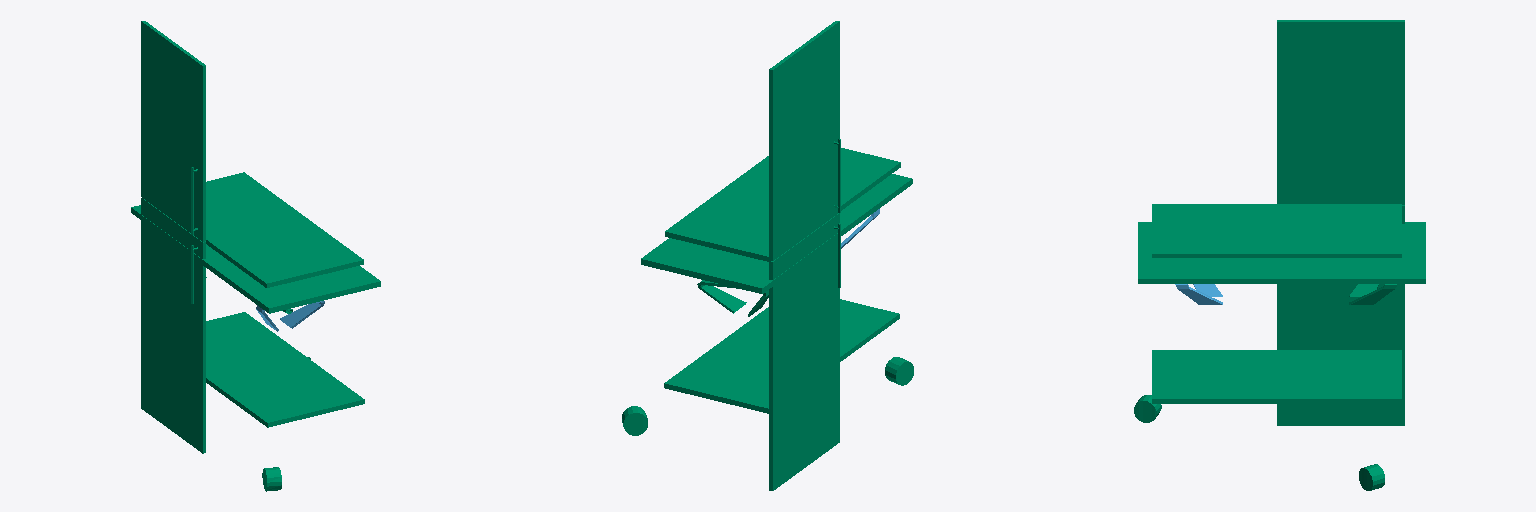
robot.urdf — partnet_c9857deb88989a67b5851007eadc6f74:
<?xml version="1.0" ?>
<robot name="partnet_c9857deb88989a67b5851007eadc6f74">
	<link name="base"/>
	<link name="link_0">
		<visual name="drawer_front-17">
			<origin xyz="0 0 0"/>
			<geometry>
				<mesh filename="textured_objs/original-12.obj"/>
			</geometry>
		</visual>
		<visual name="drawer_front-17">
			<origin xyz="0 0 0"/>
			<geometry>
				<mesh filename="textured_objs/original-5.obj"/>
			</geometry>
		</visual>
		<visual name="drawer_front-17">
			<origin xyz="0 0 0"/>
			<geometry>
				<mesh filename="textured_objs/original-10.obj"/>
			</geometry>
		</visual>
		<visual name="drawer_front-17">
			<origin xyz="0 0 0"/>
			<geometry>
				<mesh filename="textured_objs/original-11.obj"/>
			</geometry>
		</visual>
		<visual name="drawer_front-17">
			<origin xyz="0 0 0"/>
			<geometry>
				<mesh filename="textured_objs/original-9.obj"/>
			</geometry>
		</visual>
		<visual name="drawer_front-17">
			<origin xyz="0 0 0"/>
			<geometry>
				<mesh filename="textured_objs/original-8.obj"/>
			</geometry>
		</visual>
		<visual name="drawer_side-18">
			<origin xyz="0 0 0"/>
			<geometry>
				<mesh filename="textured_objs/original-2.obj"/>
			</geometry>
		</visual>
		<visual name="drawer_side-19">
			<origin xyz="0 0 0"/>
			<geometry>
				<mesh filename="textured_objs/original-6.obj"/>
			</geometry>
		</visual>
		<visual name="drawer_back-20">
			<origin xyz="0 0 0"/>
			<geometry>
				<mesh filename="textured_objs/original-15.obj"/>
			</geometry>
		</visual>
		<visual name="drawer_back-20">
			<origin xyz="0 0 0"/>
			<geometry>
				<mesh filename="textured_objs/original-14.obj"/>
			</geometry>
		</visual>
		<visual name="drawer_back-20">
			<origin xyz="0 0 0"/>
			<geometry>
				<mesh filename="textured_objs/original-16.obj"/>
			</geometry>
		</visual>
		<visual name="drawer_back-20">
			<origin xyz="0 0 0"/>
			<geometry>
				<mesh filename="textured_objs/original-17.obj"/>
			</geometry>
		</visual>
		<visual name="drawer_back-20">
			<origin xyz="0 0 0"/>
			<geometry>
				<mesh filename="textured_objs/original-18.obj"/>
			</geometry>
		</visual>
		<visual name="drawer_bottom-21">
			<origin xyz="0 0 0"/>
			<geometry>
				<mesh filename="textured_objs/original-4.obj"/>
			</geometry>
		</visual>
		<visual name="handle-16">
			<origin xyz="0 0 0"/>
			<geometry>
				<mesh filename="textured_objs/original-3.obj"/>
			</geometry>
		</visual>
		<collision>
			<origin xyz="0 0 0"/>
			<geometry>
				<mesh filename="textured_objs/original-12.obj"/>
			</geometry>
		</collision>
		<collision>
			<origin xyz="0 0 0"/>
			<geometry>
				<mesh filename="textured_objs/original-5.obj"/>
			</geometry>
		</collision>
		<collision>
			<origin xyz="0 0 0"/>
			<geometry>
				<mesh filename="textured_objs/original-10.obj"/>
			</geometry>
		</collision>
		<collision>
			<origin xyz="0 0 0"/>
			<geometry>
				<mesh filename="textured_objs/original-11.obj"/>
			</geometry>
		</collision>
		<collision>
			<origin xyz="0 0 0"/>
			<geometry>
				<mesh filename="textured_objs/original-9.obj"/>
			</geometry>
		</collision>
		<collision>
			<origin xyz="0 0 0"/>
			<geometry>
				<mesh filename="textured_objs/original-8.obj"/>
			</geometry>
		</collision>
		<collision>
			<origin xyz="0 0 0"/>
			<geometry>
				<mesh filename="textured_objs/original-2.obj"/>
			</geometry>
		</collision>
		<collision>
			<origin xyz="0 0 0"/>
			<geometry>
				<mesh filename="textured_objs/original-6.obj"/>
			</geometry>
		</collision>
		<collision>
			<origin xyz="0 0 0"/>
			<geometry>
				<mesh filename="textured_objs/original-15.obj"/>
			</geometry>
		</collision>
		<collision>
			<origin xyz="0 0 0"/>
			<geometry>
				<mesh filename="textured_objs/original-14.obj"/>
			</geometry>
		</collision>
		<collision>
			<origin xyz="0 0 0"/>
			<geometry>
				<mesh filename="textured_objs/original-16.obj"/>
			</geometry>
		</collision>
		<collision>
			<origin xyz="0 0 0"/>
			<geometry>
				<mesh filename="textured_objs/original-17.obj"/>
			</geometry>
		</collision>
		<collision>
			<origin xyz="0 0 0"/>
			<geometry>
				<mesh filename="textured_objs/original-18.obj"/>
			</geometry>
		</collision>
		<collision>
			<origin xyz="0 0 0"/>
			<geometry>
				<mesh filename="textured_objs/original-4.obj"/>
			</geometry>
		</collision>
		<collision>
			<origin xyz="0 0 0"/>
			<geometry>
				<mesh filename="textured_objs/original-3.obj"/>
			</geometry>
		</collision>
	</link>
	<joint name="joint_0" type="prismatic">
		<origin xyz="0 0 0"/>
		<axis xyz="0 0 1"/>
		<child link="link_0"/>
		<parent link="link_1"/>
		<limit lower="-0.17599999999999993" upper="0.4119999999999999"/>
	</joint>
	<link name="link_1">
		<visual name="board-23">
			<origin xyz="0 0 0"/>
			<geometry>
				<mesh filename="textured_objs/original-19.obj"/>
			</geometry>
		</visual>
		<visual name="back_panel-5">
			<origin xyz="0 0 0"/>
			<geometry>
				<mesh filename="textured_objs/original-57.obj"/>
			</geometry>
		</visual>
		<visual name="back_panel-5">
			<origin xyz="0 0 0"/>
			<geometry>
				<mesh filename="textured_objs/original-53.obj"/>
			</geometry>
		</visual>
		<visual name="back_panel-5">
			<origin xyz="0 0 0"/>
			<geometry>
				<mesh filename="textured_objs/original-51.obj"/>
			</geometry>
		</visual>
		<visual name="back_panel-5">
			<origin xyz="0 0 0"/>
			<geometry>
				<mesh filename="textured_objs/original-52.obj"/>
			</geometry>
		</visual>
		<visual name="back_panel-5">
			<origin xyz="0 0 0"/>
			<geometry>
				<mesh filename="textured_objs/original-54.obj"/>
			</geometry>
		</visual>
		<visual name="back_panel-5">
			<origin xyz="0 0 0"/>
			<geometry>
				<mesh filename="textured_objs/original-56.obj"/>
			</geometry>
		</visual>
		<visual name="vertical_side_panel-6">
			<origin xyz="0 0 0"/>
			<geometry>
				<mesh filename="textured_objs/original-38.obj"/>
			</geometry>
		</visual>
		<visual name="vertical_side_panel-6">
			<origin xyz="0 0 0"/>
			<geometry>
				<mesh filename="textured_objs/original-35.obj"/>
			</geometry>
		</visual>
		<visual name="vertical_side_panel-6">
			<origin xyz="0 0 0"/>
			<geometry>
				<mesh filename="textured_objs/original-36.obj"/>
			</geometry>
		</visual>
		<visual name="vertical_side_panel-6">
			<origin xyz="0 0 0"/>
			<geometry>
				<mesh filename="textured_objs/original-33.obj"/>
			</geometry>
		</visual>
		<visual name="vertical_side_panel-6">
			<origin xyz="0 0 0"/>
			<geometry>
				<mesh filename="textured_objs/original-34.obj"/>
			</geometry>
		</visual>
		<visual name="vertical_side_panel-6">
			<origin xyz="0 0 0"/>
			<geometry>
				<mesh filename="textured_objs/original-37.obj"/>
			</geometry>
		</visual>
		<visual name="vertical_side_panel-6">
			<origin xyz="0 0 0"/>
			<geometry>
				<mesh filename="textured_objs/original-39.obj"/>
			</geometry>
		</visual>
		<visual name="vertical_side_panel-7">
			<origin xyz="0 0 0"/>
			<geometry>
				<mesh filename="textured_objs/original-31.obj"/>
			</geometry>
		</visual>
		<visual name="vertical_side_panel-7">
			<origin xyz="0 0 0"/>
			<geometry>
				<mesh filename="textured_objs/original-30.obj"/>
			</geometry>
		</visual>
		<visual name="vertical_side_panel-7">
			<origin xyz="0 0 0"/>
			<geometry>
				<mesh filename="textured_objs/original-28.obj"/>
			</geometry>
		</visual>
		<visual name="vertical_side_panel-7">
			<origin xyz="0 0 0"/>
			<geometry>
				<mesh filename="textured_objs/original-27.obj"/>
			</geometry>
		</visual>
		<visual name="vertical_side_panel-7">
			<origin xyz="0 0 0"/>
			<geometry>
				<mesh filename="textured_objs/original-25.obj"/>
			</geometry>
		</visual>
		<visual name="vertical_side_panel-7">
			<origin xyz="0 0 0"/>
			<geometry>
				<mesh filename="textured_objs/original-26.obj"/>
			</geometry>
		</visual>
		<visual name="vertical_side_panel-7">
			<origin xyz="0 0 0"/>
			<geometry>
				<mesh filename="textured_objs/original-29.obj"/>
			</geometry>
		</visual>
		<visual name="vertical_front_panel-8">
			<origin xyz="0 0 0"/>
			<geometry>
				<mesh filename="textured_objs/original-59.obj"/>
			</geometry>
		</visual>
		<visual name="vertical_front_panel-8">
			<origin xyz="0 0 0"/>
			<geometry>
				<mesh filename="textured_objs/original-60.obj"/>
			</geometry>
		</visual>
		<visual name="vertical_front_panel-8">
			<origin xyz="0 0 0"/>
			<geometry>
				<mesh filename="textured_objs/original-61.obj"/>
			</geometry>
		</visual>
		<visual name="vertical_front_panel-8">
			<origin xyz="0 0 0"/>
			<geometry>
				<mesh filename="textured_objs/original-64.obj"/>
			</geometry>
		</visual>
		<visual name="vertical_front_panel-8">
			<origin xyz="0 0 0"/>
			<geometry>
				<mesh filename="textured_objs/original-62.obj"/>
			</geometry>
		</visual>
		<visual name="vertical_front_panel-8">
			<origin xyz="0 0 0"/>
			<geometry>
				<mesh filename="textured_objs/original-63.obj"/>
			</geometry>
		</visual>
		<visual name="vertical_front_panel-8">
			<origin xyz="0 0 0"/>
			<geometry>
				<mesh filename="textured_objs/original-65.obj"/>
			</geometry>
		</visual>
		<visual name="leg-9">
			<origin xyz="0 0 0"/>
			<geometry>
				<mesh filename="textured_objs/original-20.obj"/>
			</geometry>
		</visual>
		<visual name="leg-10">
			<origin xyz="0 0 0"/>
			<geometry>
				<mesh filename="textured_objs/original-23.obj"/>
			</geometry>
		</visual>
		<visual name="leg-11">
			<origin xyz="0 0 0"/>
			<geometry>
				<mesh filename="textured_objs/original-22.obj"/>
			</geometry>
		</visual>
		<visual name="leg-12">
			<origin xyz="0 0 0"/>
			<geometry>
				<mesh filename="textured_objs/original-21.obj"/>
			</geometry>
		</visual>
		<visual name="bar_stretcher-13">
			<origin xyz="0 0 0"/>
			<geometry>
				<mesh filename="textured_objs/original-47.obj"/>
			</geometry>
		</visual>
		<visual name="bar_stretcher-13">
			<origin xyz="0 0 0"/>
			<geometry>
				<mesh filename="textured_objs/original-48.obj"/>
			</geometry>
		</visual>
		<visual name="bar_stretcher-13">
			<origin xyz="0 0 0"/>
			<geometry>
				<mesh filename="textured_objs/original-45.obj"/>
			</geometry>
		</visual>
		<visual name="bar_stretcher-13">
			<origin xyz="0 0 0"/>
			<geometry>
				<mesh filename="textured_objs/original-46.obj"/>
			</geometry>
		</visual>
		<visual name="bar_stretcher-14">
			<origin xyz="0 0 0"/>
			<geometry>
				<mesh filename="textured_objs/original-49.obj"/>
			</geometry>
		</visual>
		<visual name="bar_stretcher-14">
			<origin xyz="0 0 0"/>
			<geometry>
				<mesh filename="textured_objs/original-43.obj"/>
			</geometry>
		</visual>
		<visual name="bar_stretcher-14">
			<origin xyz="0 0 0"/>
			<geometry>
				<mesh filename="textured_objs/original-42.obj"/>
			</geometry>
		</visual>
		<visual name="bar_stretcher-14">
			<origin xyz="0 0 0"/>
			<geometry>
				<mesh filename="textured_objs/original-41.obj"/>
			</geometry>
		</visual>
		<collision>
			<origin xyz="0 0 0"/>
			<geometry>
				<mesh filename="textured_objs/original-19.obj"/>
			</geometry>
		</collision>
		<collision>
			<origin xyz="0 0 0"/>
			<geometry>
				<mesh filename="textured_objs/original-57.obj"/>
			</geometry>
		</collision>
		<collision>
			<origin xyz="0 0 0"/>
			<geometry>
				<mesh filename="textured_objs/original-53.obj"/>
			</geometry>
		</collision>
		<collision>
			<origin xyz="0 0 0"/>
			<geometry>
				<mesh filename="textured_objs/original-51.obj"/>
			</geometry>
		</collision>
		<collision>
			<origin xyz="0 0 0"/>
			<geometry>
				<mesh filename="textured_objs/original-52.obj"/>
			</geometry>
		</collision>
		<collision>
			<origin xyz="0 0 0"/>
			<geometry>
				<mesh filename="textured_objs/original-54.obj"/>
			</geometry>
		</collision>
		<collision>
			<origin xyz="0 0 0"/>
			<geometry>
				<mesh filename="textured_objs/original-56.obj"/>
			</geometry>
		</collision>
		<collision>
			<origin xyz="0 0 0"/>
			<geometry>
				<mesh filename="textured_objs/original-38.obj"/>
			</geometry>
		</collision>
		<collision>
			<origin xyz="0 0 0"/>
			<geometry>
				<mesh filename="textured_objs/original-35.obj"/>
			</geometry>
		</collision>
		<collision>
			<origin xyz="0 0 0"/>
			<geometry>
				<mesh filename="textured_objs/original-36.obj"/>
			</geometry>
		</collision>
		<collision>
			<origin xyz="0 0 0"/>
			<geometry>
				<mesh filename="textured_objs/original-33.obj"/>
			</geometry>
		</collision>
		<collision>
			<origin xyz="0 0 0"/>
			<geometry>
				<mesh filename="textured_objs/original-34.obj"/>
			</geometry>
		</collision>
		<collision>
			<origin xyz="0 0 0"/>
			<geometry>
				<mesh filename="textured_objs/original-37.obj"/>
			</geometry>
		</collision>
		<collision>
			<origin xyz="0 0 0"/>
			<geometry>
				<mesh filename="textured_objs/original-39.obj"/>
			</geometry>
		</collision>
		<collision>
			<origin xyz="0 0 0"/>
			<geometry>
				<mesh filename="textured_objs/original-31.obj"/>
			</geometry>
		</collision>
		<collision>
			<origin xyz="0 0 0"/>
			<geometry>
				<mesh filename="textured_objs/original-30.obj"/>
			</geometry>
		</collision>
		<collision>
			<origin xyz="0 0 0"/>
			<geometry>
				<mesh filename="textured_objs/original-28.obj"/>
			</geometry>
		</collision>
		<collision>
			<origin xyz="0 0 0"/>
			<geometry>
				<mesh filename="textured_objs/original-27.obj"/>
			</geometry>
		</collision>
		<collision>
			<origin xyz="0 0 0"/>
			<geometry>
				<mesh filename="textured_objs/original-25.obj"/>
			</geometry>
		</collision>
		<collision>
			<origin xyz="0 0 0"/>
			<geometry>
				<mesh filename="textured_objs/original-26.obj"/>
			</geometry>
		</collision>
		<collision>
			<origin xyz="0 0 0"/>
			<geometry>
				<mesh filename="textured_objs/original-29.obj"/>
			</geometry>
		</collision>
		<collision>
			<origin xyz="0 0 0"/>
			<geometry>
				<mesh filename="textured_objs/original-59.obj"/>
			</geometry>
		</collision>
		<collision>
			<origin xyz="0 0 0"/>
			<geometry>
				<mesh filename="textured_objs/original-60.obj"/>
			</geometry>
		</collision>
		<collision>
			<origin xyz="0 0 0"/>
			<geometry>
				<mesh filename="textured_objs/original-61.obj"/>
			</geometry>
		</collision>
		<collision>
			<origin xyz="0 0 0"/>
			<geometry>
				<mesh filename="textured_objs/original-64.obj"/>
			</geometry>
		</collision>
		<collision>
			<origin xyz="0 0 0"/>
			<geometry>
				<mesh filename="textured_objs/original-62.obj"/>
			</geometry>
		</collision>
		<collision>
			<origin xyz="0 0 0"/>
			<geometry>
				<mesh filename="textured_objs/original-63.obj"/>
			</geometry>
		</collision>
		<collision>
			<origin xyz="0 0 0"/>
			<geometry>
				<mesh filename="textured_objs/original-65.obj"/>
			</geometry>
		</collision>
		<collision>
			<origin xyz="0 0 0"/>
			<geometry>
				<mesh filename="textured_objs/original-20.obj"/>
			</geometry>
		</collision>
		<collision>
			<origin xyz="0 0 0"/>
			<geometry>
				<mesh filename="textured_objs/original-23.obj"/>
			</geometry>
		</collision>
		<collision>
			<origin xyz="0 0 0"/>
			<geometry>
				<mesh filename="textured_objs/original-22.obj"/>
			</geometry>
		</collision>
		<collision>
			<origin xyz="0 0 0"/>
			<geometry>
				<mesh filename="textured_objs/original-21.obj"/>
			</geometry>
		</collision>
		<collision>
			<origin xyz="0 0 0"/>
			<geometry>
				<mesh filename="textured_objs/original-47.obj"/>
			</geometry>
		</collision>
		<collision>
			<origin xyz="0 0 0"/>
			<geometry>
				<mesh filename="textured_objs/original-48.obj"/>
			</geometry>
		</collision>
		<collision>
			<origin xyz="0 0 0"/>
			<geometry>
				<mesh filename="textured_objs/original-45.obj"/>
			</geometry>
		</collision>
		<collision>
			<origin xyz="0 0 0"/>
			<geometry>
				<mesh filename="textured_objs/original-46.obj"/>
			</geometry>
		</collision>
		<collision>
			<origin xyz="0 0 0"/>
			<geometry>
				<mesh filename="textured_objs/original-49.obj"/>
			</geometry>
		</collision>
		<collision>
			<origin xyz="0 0 0"/>
			<geometry>
				<mesh filename="textured_objs/original-43.obj"/>
			</geometry>
		</collision>
		<collision>
			<origin xyz="0 0 0"/>
			<geometry>
				<mesh filename="textured_objs/original-42.obj"/>
			</geometry>
		</collision>
		<collision>
			<origin xyz="0 0 0"/>
			<geometry>
				<mesh filename="textured_objs/original-41.obj"/>
			</geometry>
		</collision>
	</link>
	<joint name="joint_1" type="fixed">
		<origin rpy="1.570796326794897 0 -1.570796326794897" xyz="0 0 0"/>
		<child link="link_1"/>
		<parent link="base"/>
	</joint>
</robot>

--- What the picture shows (computed from the rendered views, not written in the file) ---
3 views of the same robot in one strip: view 1: azimuth 30°, elevation 25°; view 2: azimuth 150°, elevation 25°; view 3: azimuth 270°, elevation 25° (orthographic).
Robot: partnet_c9857deb88989a67b5851007eadc6f74 — 3 links, 2 joints (1 prismatic, 1 fixed); root link base; default pose: every joint at zero.
Visible links, largest first — view 1: link_1, link_0; view 2: link_1; view 3: link_1, link_0.
Boxes of the visible links, x1,y1,x2,y2 form: link_1: (131,21,380,491); link_0: (256,301,324,331); link_1: (622,21,913,490); link_1: (1134,20,1425,490); link_0: (1175,284,1222,304).
Bounding box of the posed robot: 0.7376 × 1.11 × 1.7 m (x, y, z).
Meshes: 55 distinct files referenced, 16 mesh visuals loaded (16 OBJ); not drawn: 39 (reference not matched to a file when rendering).